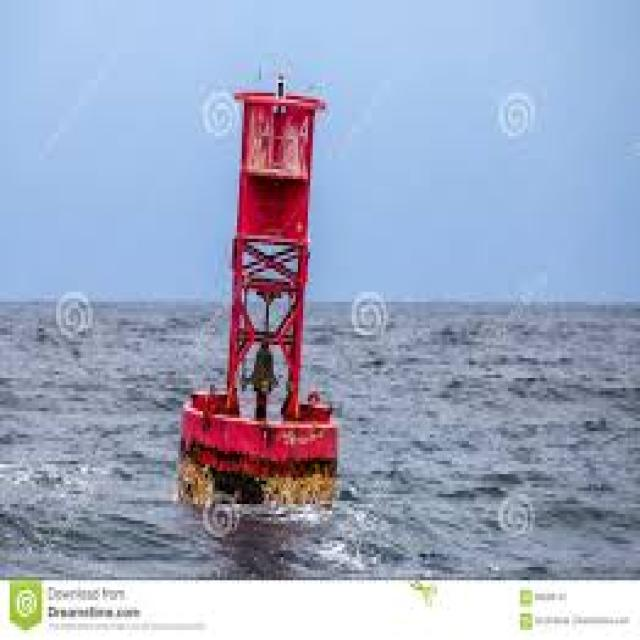2.1 lateral mark -P-: (168, 51, 343, 522)
